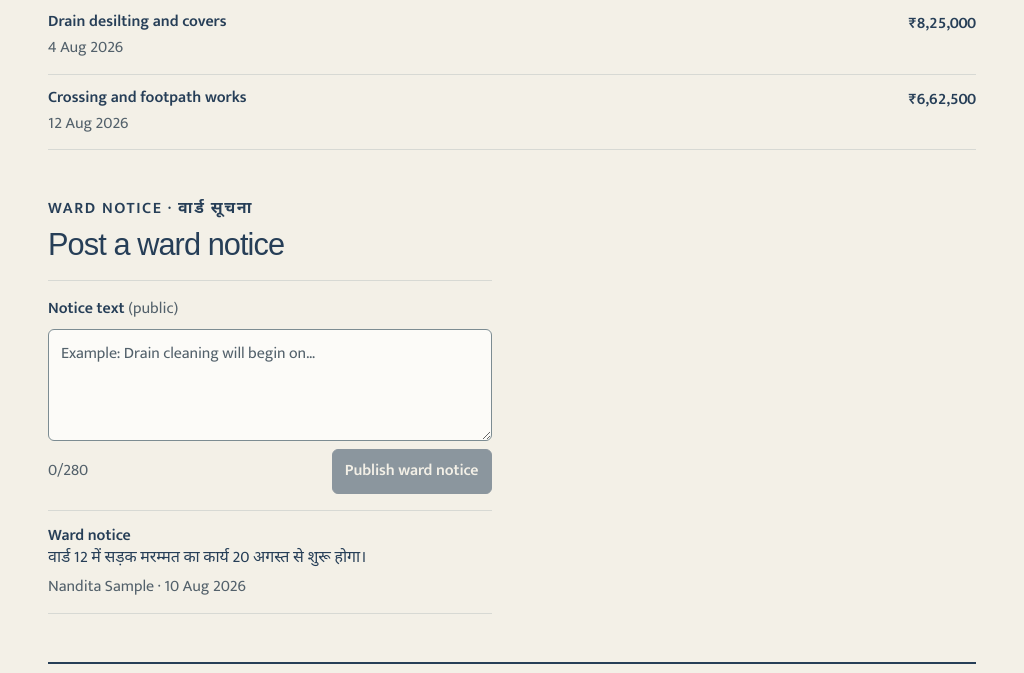
Test case: parshad notice publication › preserves the draft and supports retry after a failed result
This screenshot has width=1024, height=673.
(page scrolled)
Type "Work begins tomorrow morning." into the text box labelled "Notice text (public)" at point(270, 385), box [48,329,492,441]
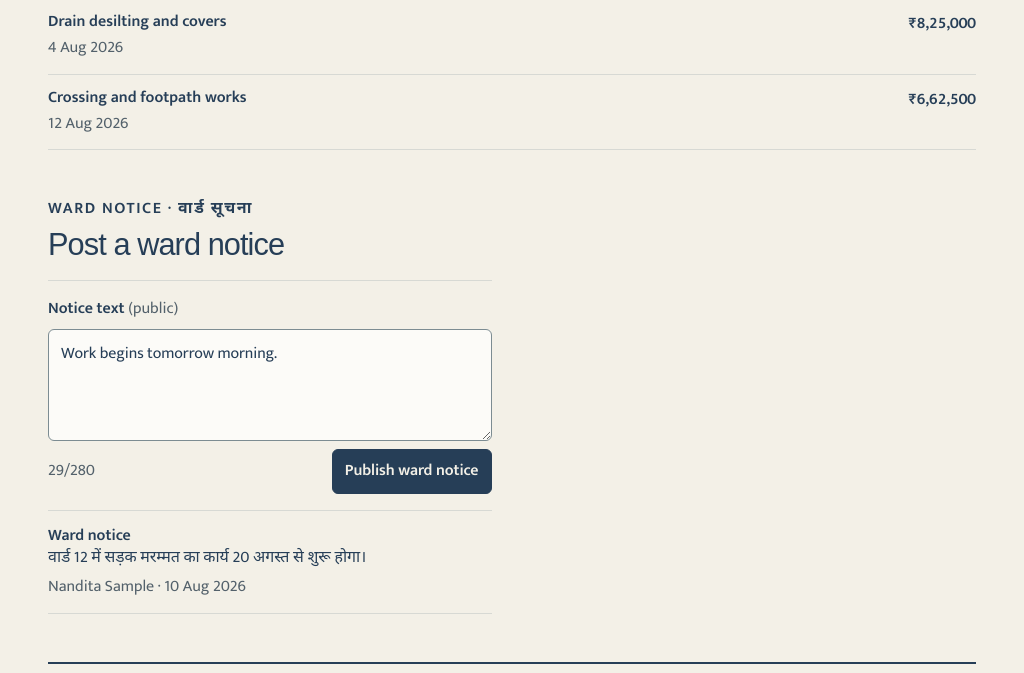
Submit the form, box [48,281,492,510]
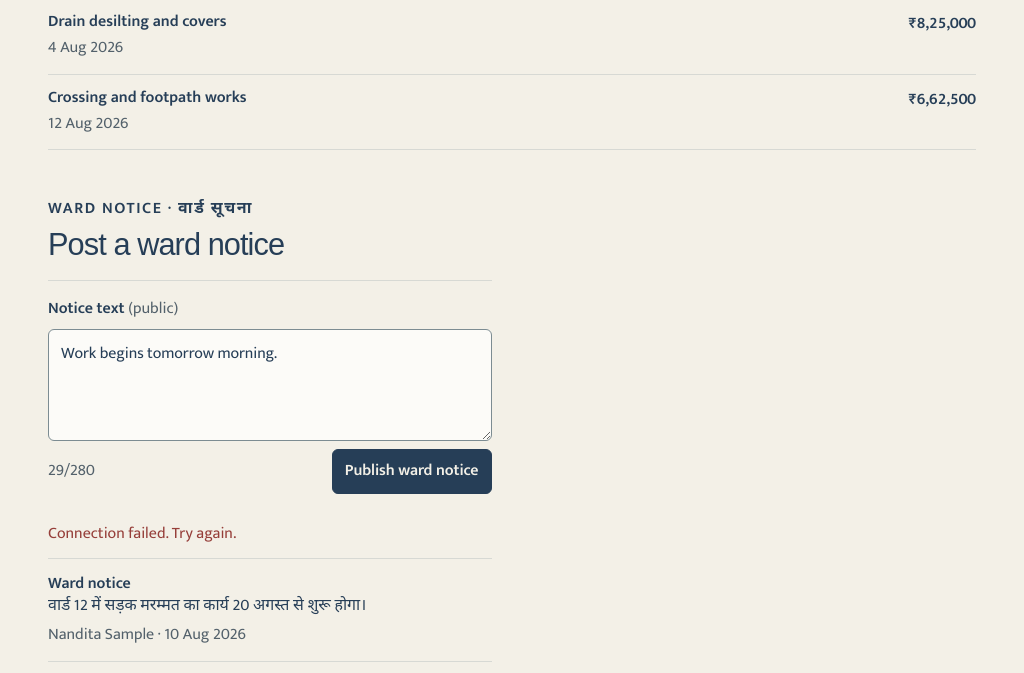
Expected: the text box labelled "Notice text (public)" is enabled, [48,329,492,441]
Expected: the message reads "Connection failed. Try again.", [48,520,236,547]
Submit the form, box [48,281,492,510]
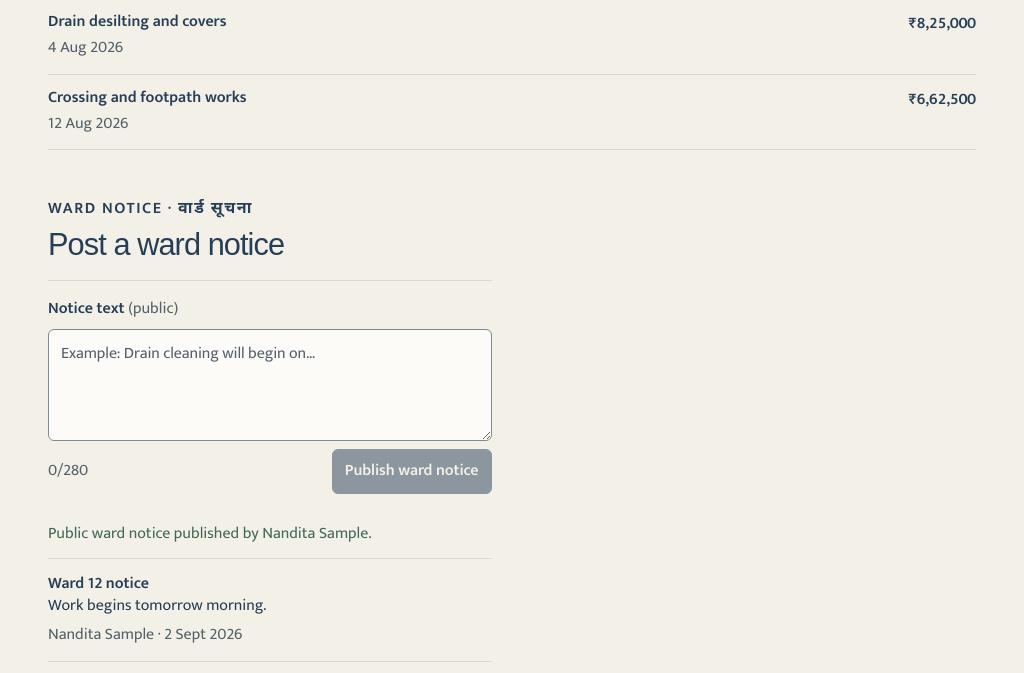
Expected: the text "Work begins tomorrow morning" is shown once, [48,570,266,619]
